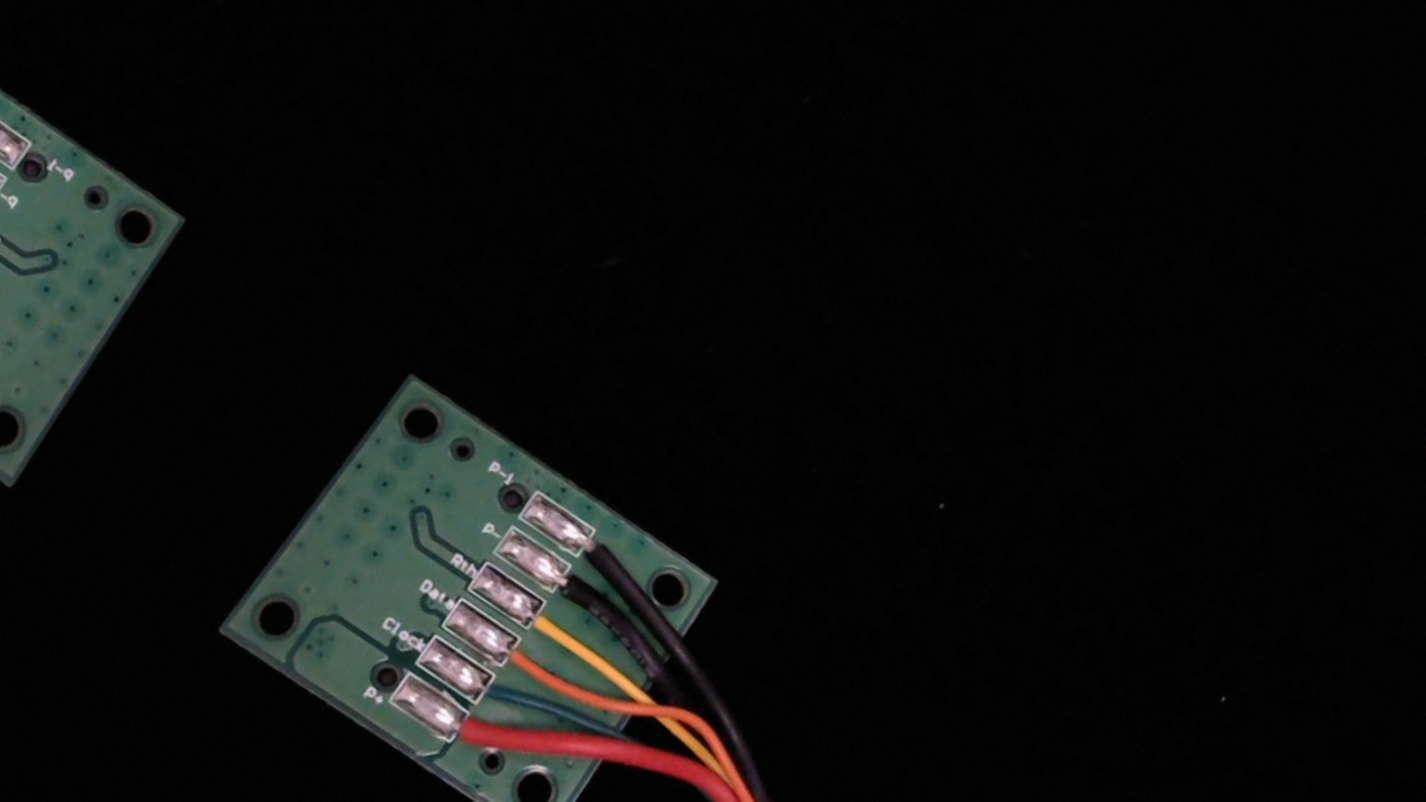Black: (532, 553, 622, 632)
Black1: (561, 516, 645, 590)
Green: (454, 663, 542, 739)
Orange: (482, 624, 571, 700)
Red: (427, 698, 515, 774)
Yellow: (506, 588, 597, 668)
